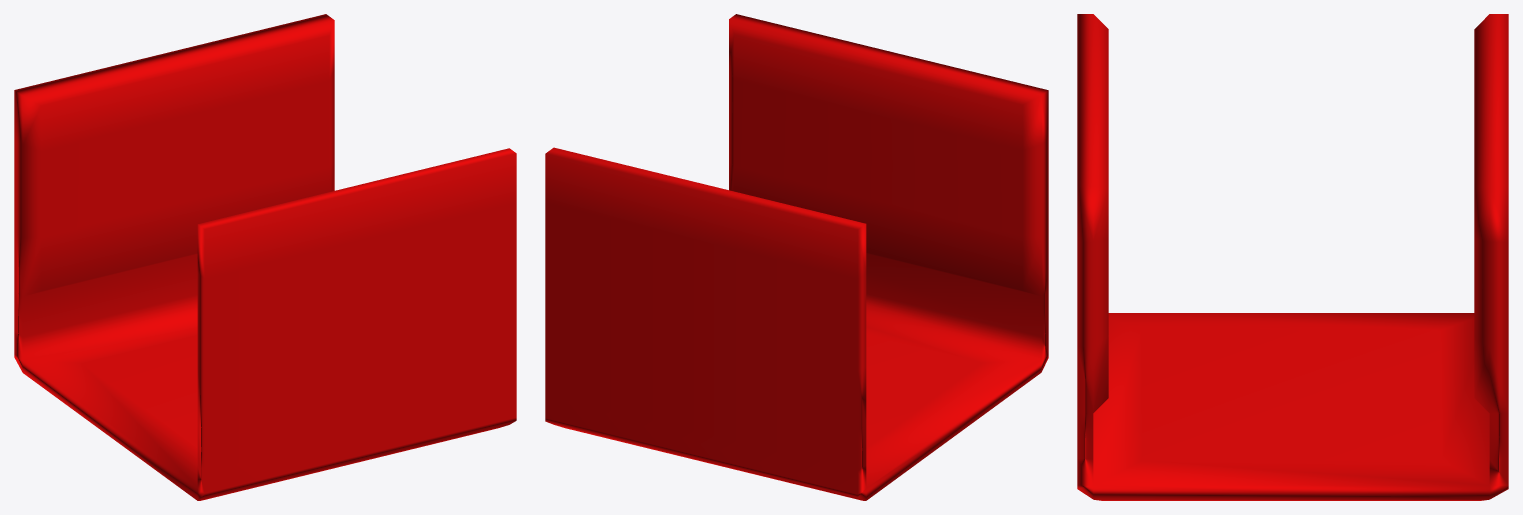
Rendered from mdl_Corredor_Escalera_Lateral.fbx.
The picture shows the model from 3 angles, left to right: view 1: azimuth 30°, elevation 25°; view 2: azimuth 150°, elevation 25°; view 3: azimuth 270°, elevation 25°; orthographic projection. The views are drawn at different scales.
Parts seen in each view (by area): view 1: mdl_Corredor_Escalera_Lateral; view 2: mdl_Corredor_Escalera_Lateral; view 3: mdl_Corredor_Escalera_Lateral.
Part boxes in pixels (x1,y1,x2,y2): mdl_Corredor_Escalera_Lateral: [14, 14, 516, 500]; mdl_Corredor_Escalera_Lateral: [545, 14, 1048, 500]; mdl_Corredor_Escalera_Lateral: [1077, 14, 1508, 500].
Size of the model in its own units: 1.97 by 1.7 by 2.08.
